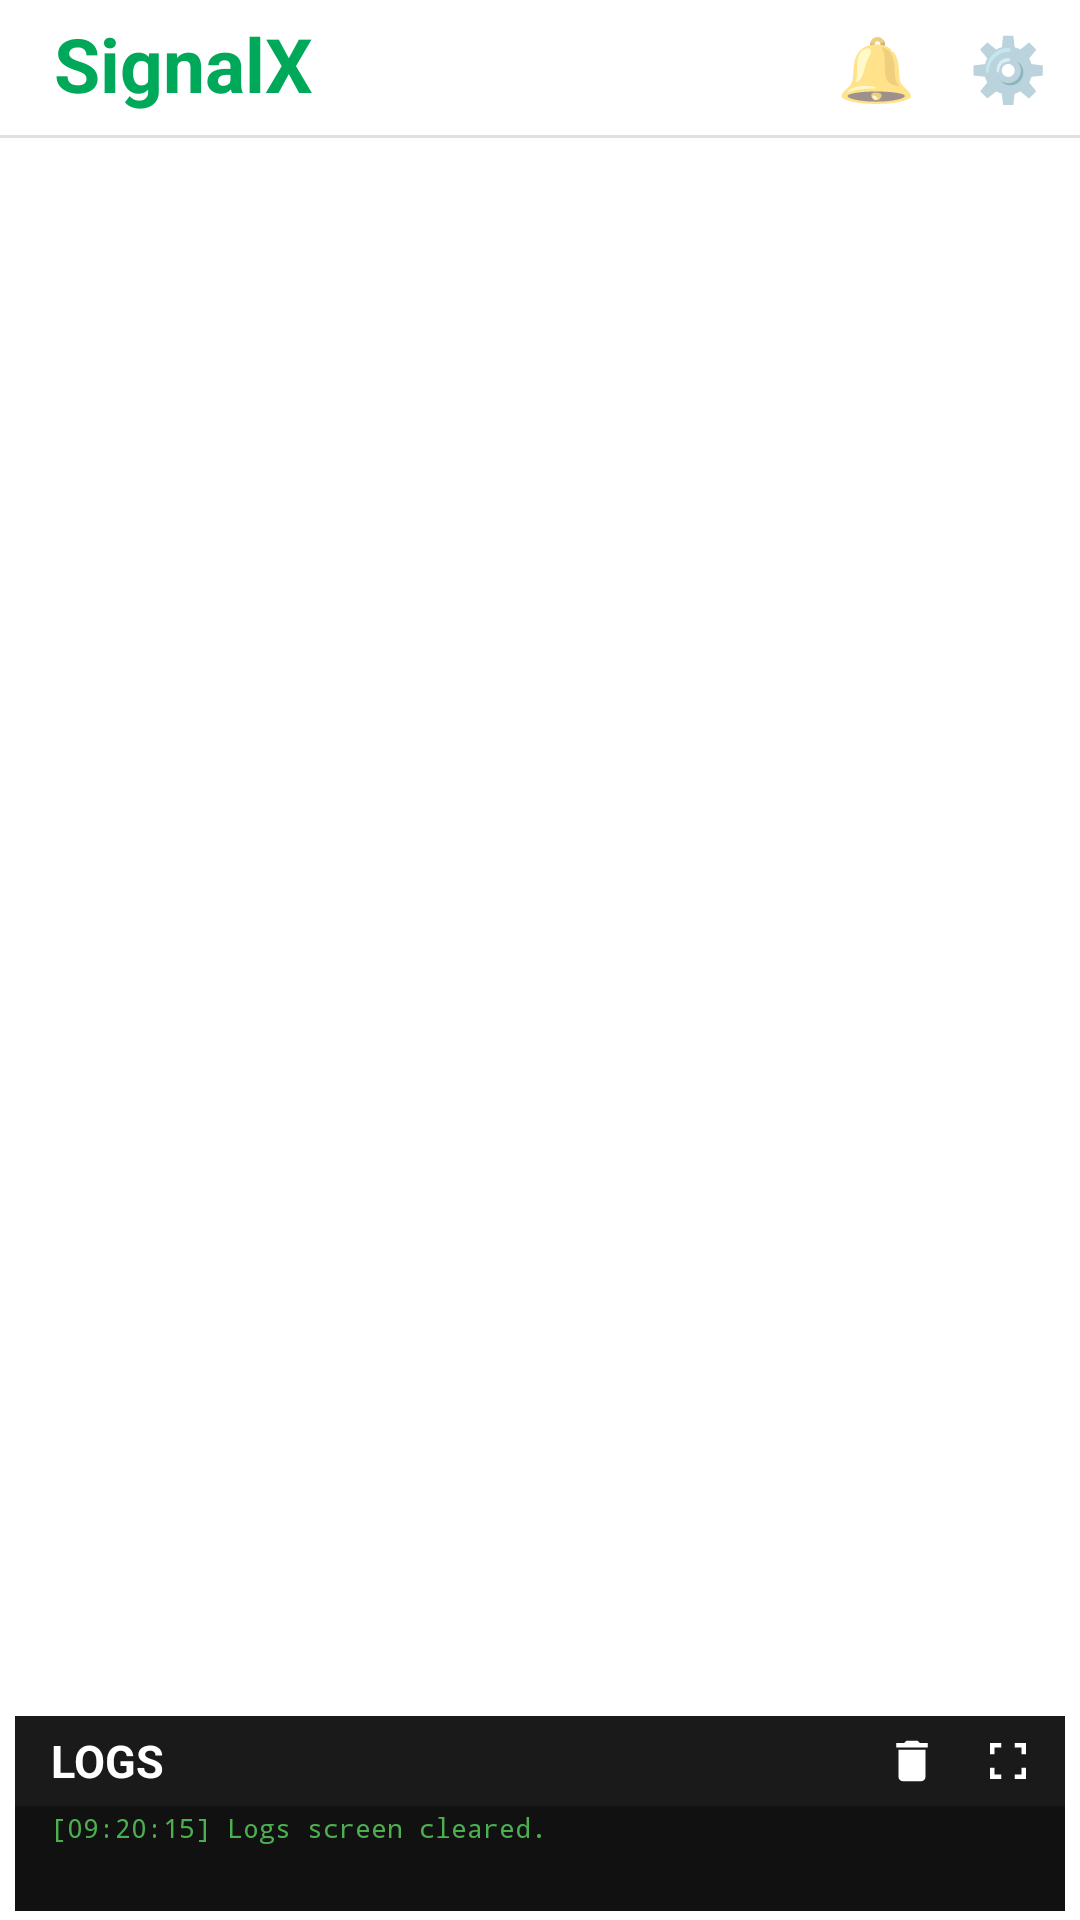

Icon bounding boxes for this 1080 × 1920 phone screenshot, format (x1=x1, y1=y1, x2=x2, y2=y2):
Delete logs: (x1=896, y1=1740, x2=928, y2=1782)
Expand: (x1=990, y1=1743, x2=1026, y2=1779)
